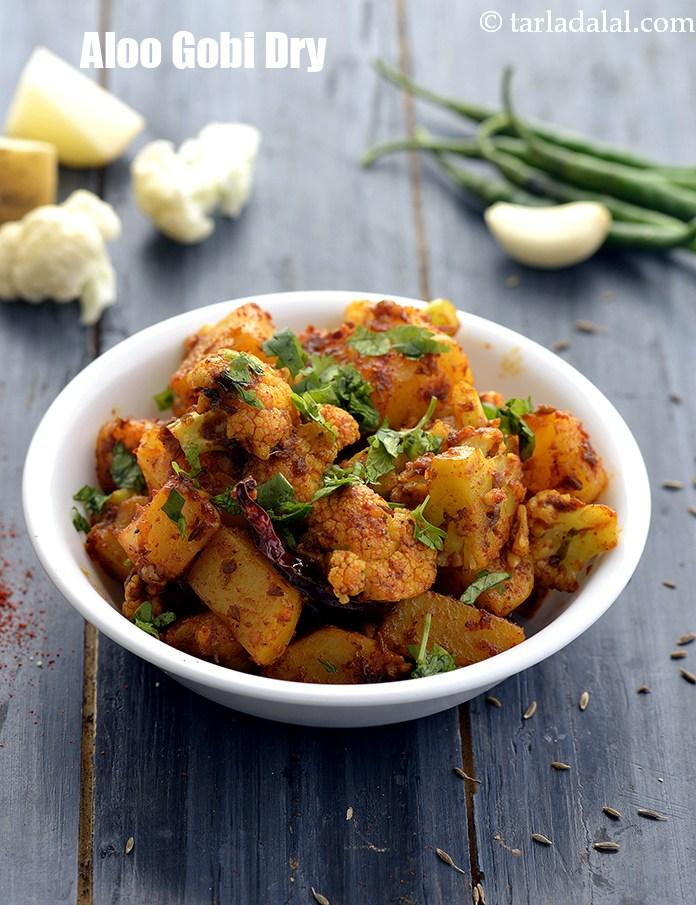aloo gobhi: (66, 308, 649, 694)
